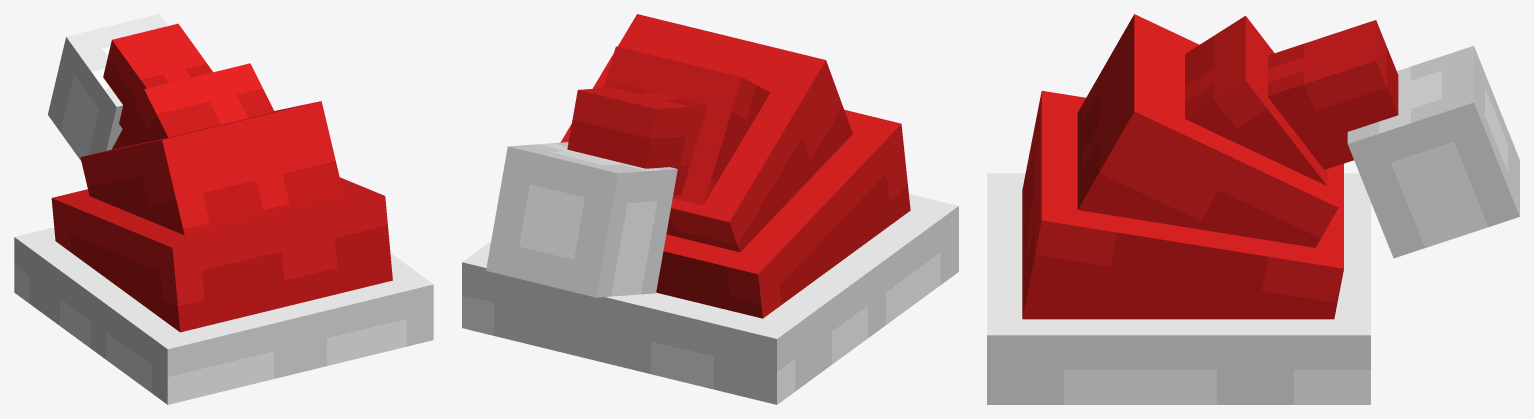
Rendered from hat.gltf.
3 views of the same model, side by side, from view 1: azimuth 30°, elevation 25°; view 2: azimuth 150°, elevation 25°; view 3: azimuth 270°, elevation 25° (orthographic). The views are drawn at different scales.
Visible parts, largest first — view 1: cube (×8); view 2: cube (×8); view 3: cube (×8).
Boxes of the visible parts, x1,y1,x2,y2 form: cube (×8): (14, 14, 433, 404); cube (×8): (462, 14, 958, 404); cube (×8): (987, 14, 1519, 404).
Size of the model in its own units: 0.625 by 0.5097 by 0.8676.
Materials: 1 (1 with a texture image).
